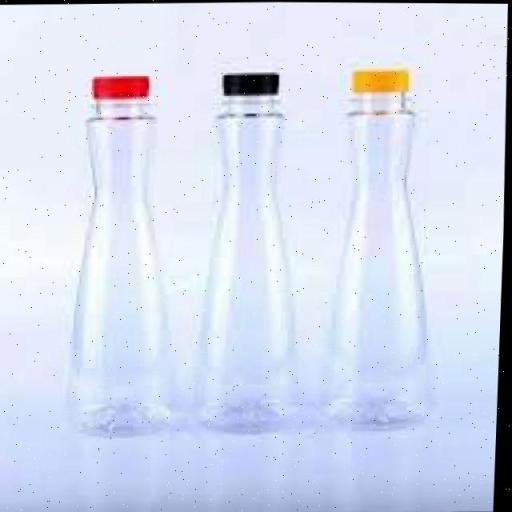plastic: (40, 64, 198, 438), (312, 70, 454, 435), (194, 67, 316, 442)
